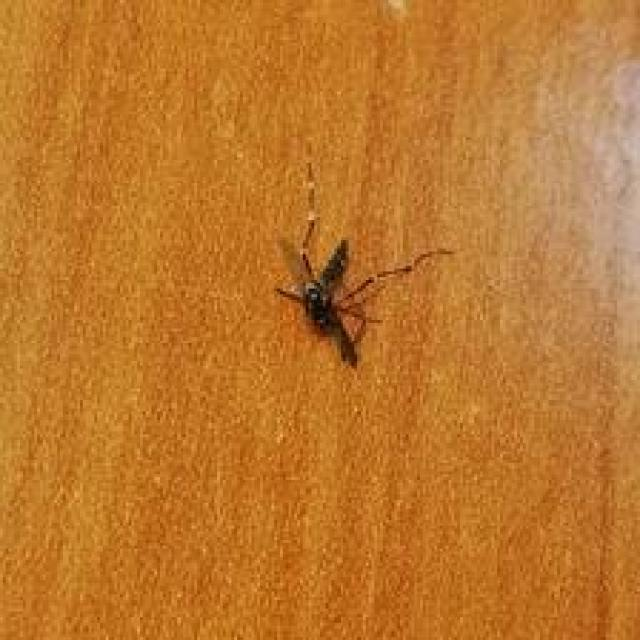Aedes albopictus: (272, 161, 454, 370)
